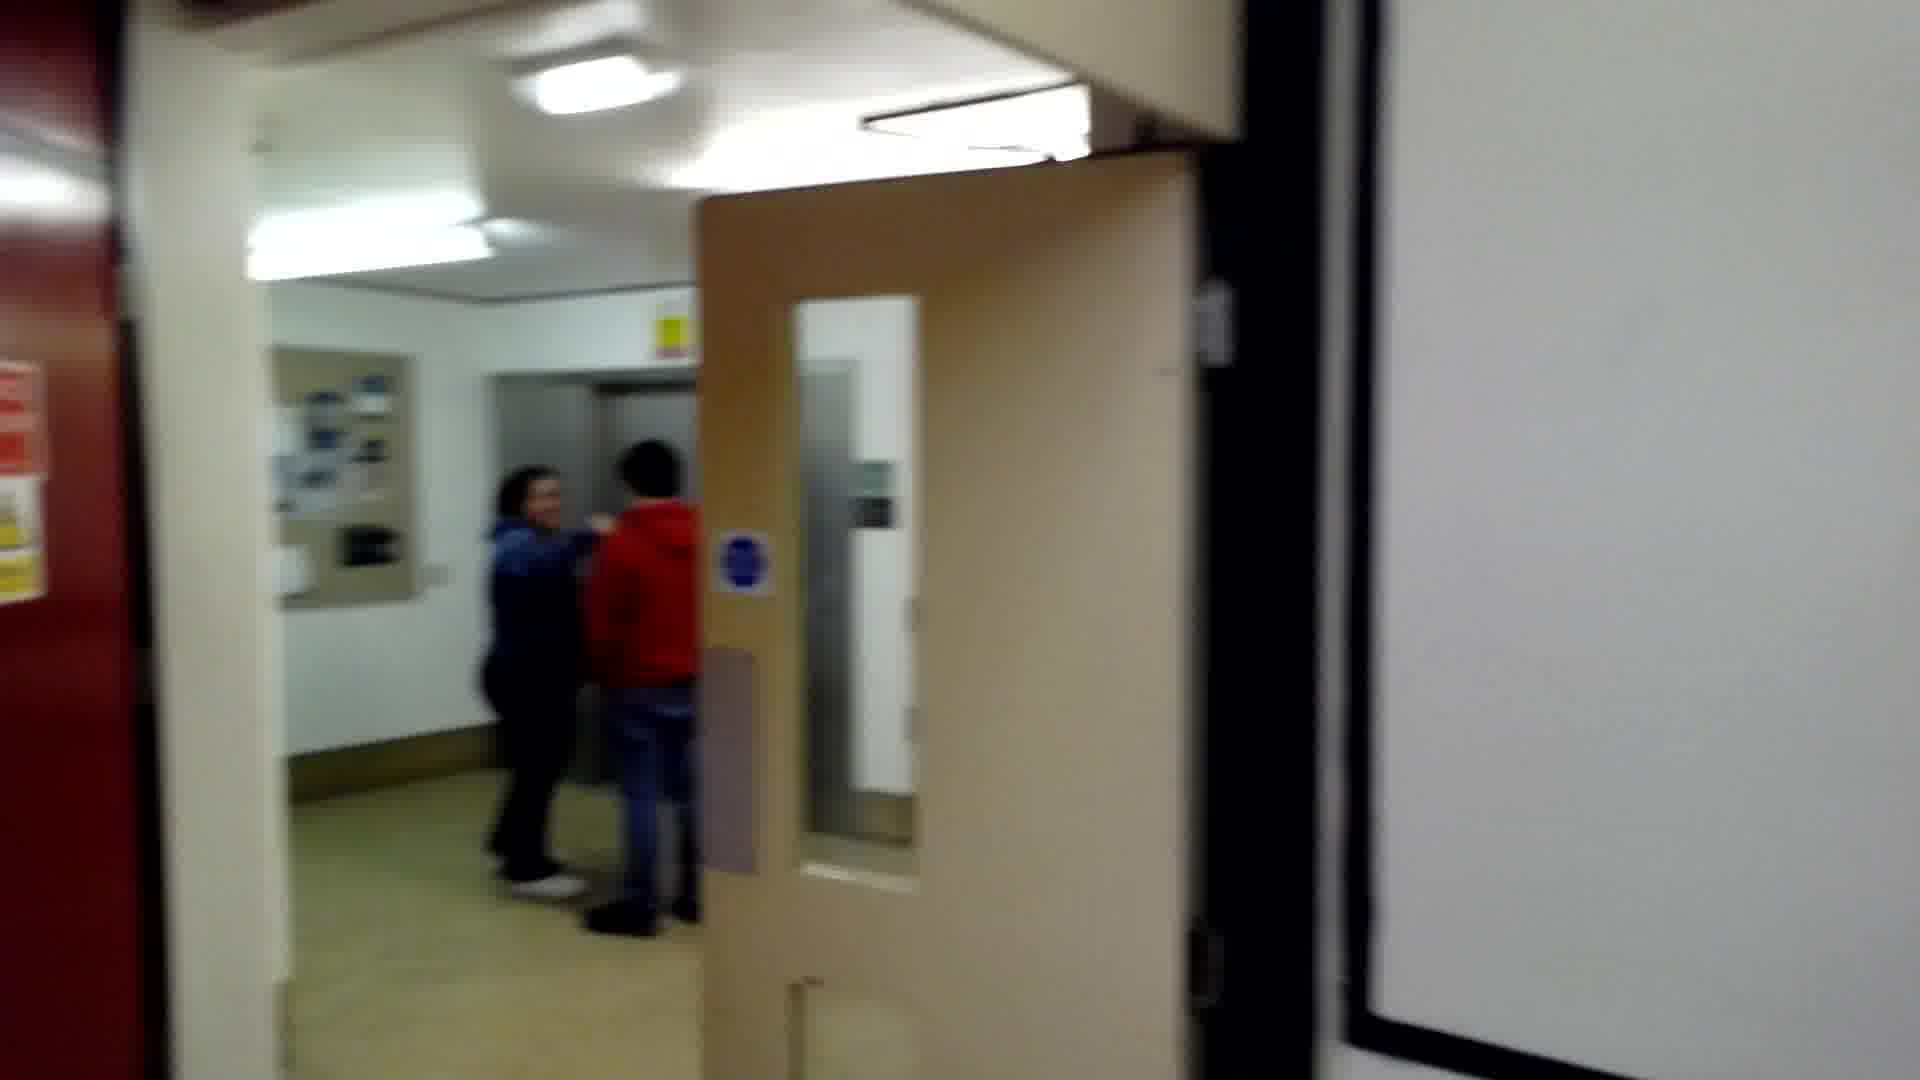Door: (688, 156, 1213, 1080)
Person: (589, 435, 707, 947), (477, 458, 591, 905)
